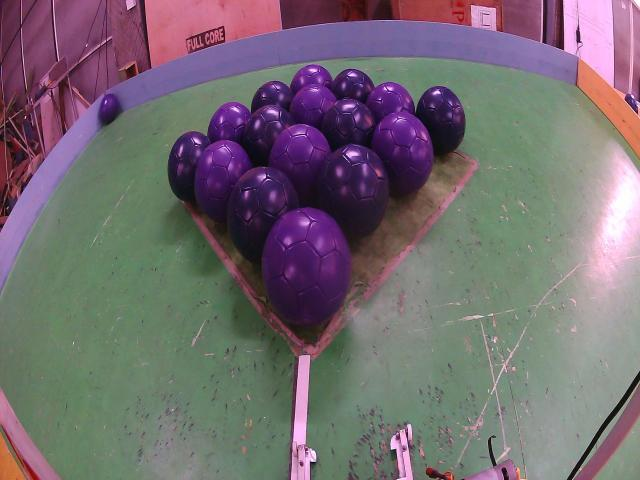jambhalya: (261, 208, 351, 325), (371, 112, 434, 195), (269, 123, 331, 207), (194, 140, 251, 222), (290, 83, 336, 130), (366, 82, 415, 123), (208, 102, 251, 145), (290, 63, 332, 93)
kaalyya: (228, 167, 299, 263), (318, 143, 389, 238), (242, 105, 295, 167), (416, 87, 465, 153), (321, 98, 376, 152), (168, 132, 210, 200), (331, 68, 375, 103), (251, 80, 294, 112), (99, 93, 120, 125)
